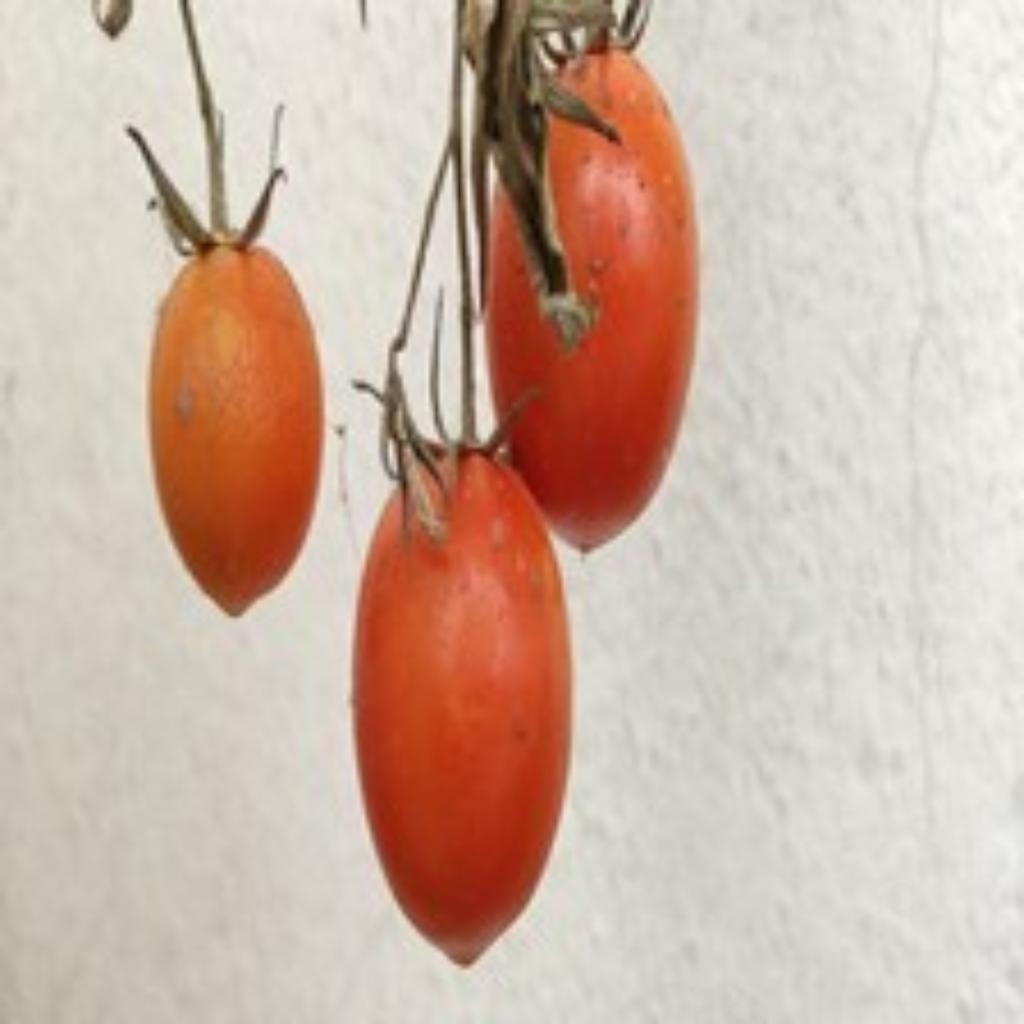tomato: (354, 454, 572, 963), (486, 48, 698, 549)
